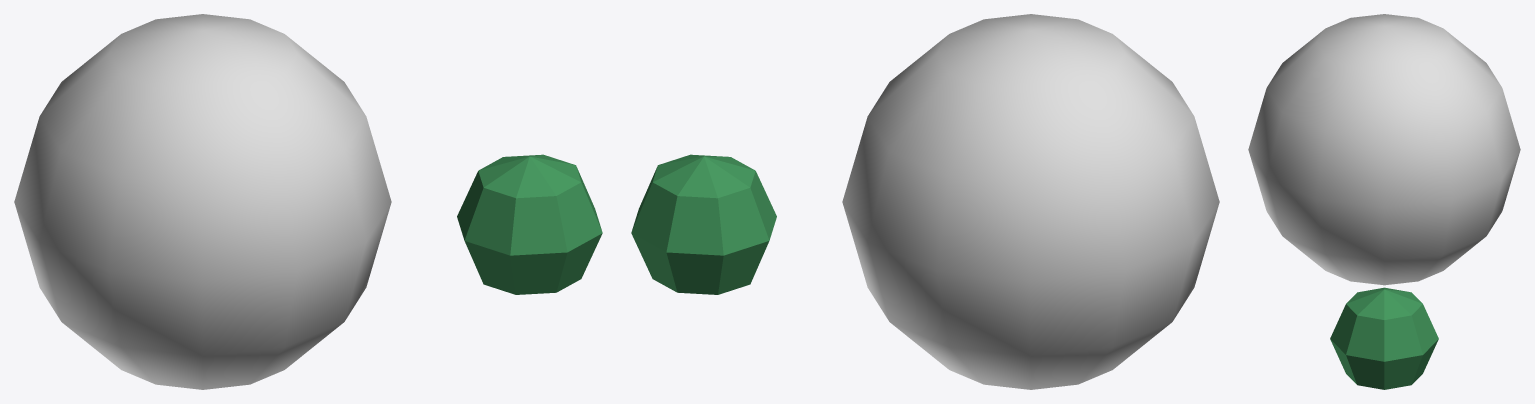
Rendered from soap_bubble.out_bubble.glb.
3 views of the same model, side by side, from view 1: azimuth 30°, elevation 25°; view 2: azimuth 150°, elevation 25°; view 3: azimuth 270°, elevation 25° (orthographic). The views are drawn at different scales.
Parts seen in each view (by area): view 1: Bubble, Beetle; view 2: Bubble, Beetle; view 3: Bubble, Beetle.
Boxes of the visible parts, left/top/right/bottom form: Bubble: left=14, top=14, right=391, bottom=389; Beetle: left=457, top=154, right=602, bottom=294; Bubble: left=842, top=14, right=1219, bottom=389; Beetle: left=631, top=154, right=776, bottom=294; Bubble: left=1248, top=14, right=1520, bottom=285; Beetle: left=1330, top=287, right=1438, bottom=389.
Bounding box in the file's own units: 3.4 × 2 × 2.
